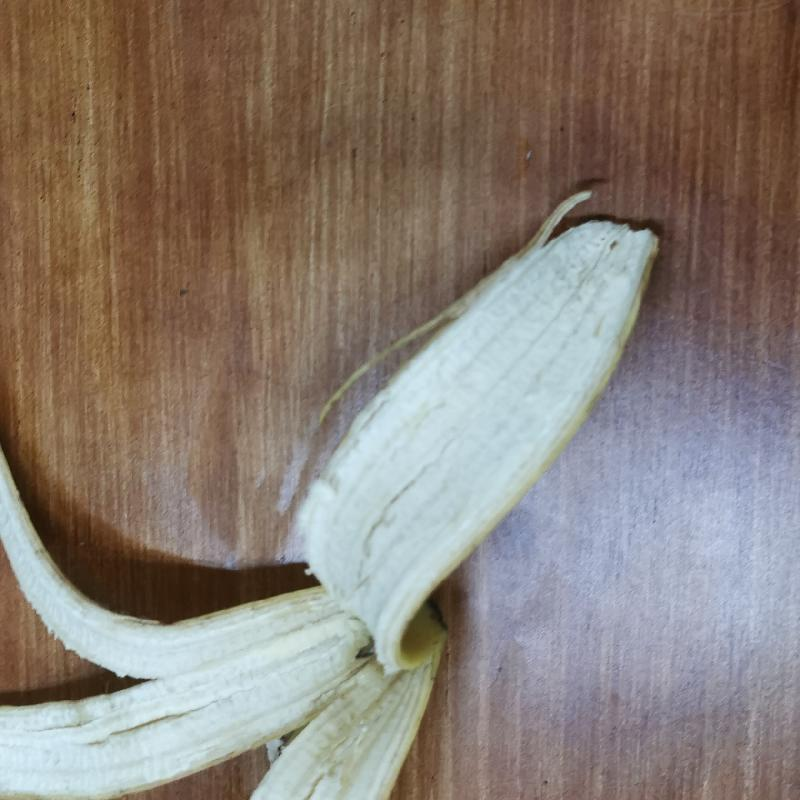bananas: (3, 193, 662, 800)
